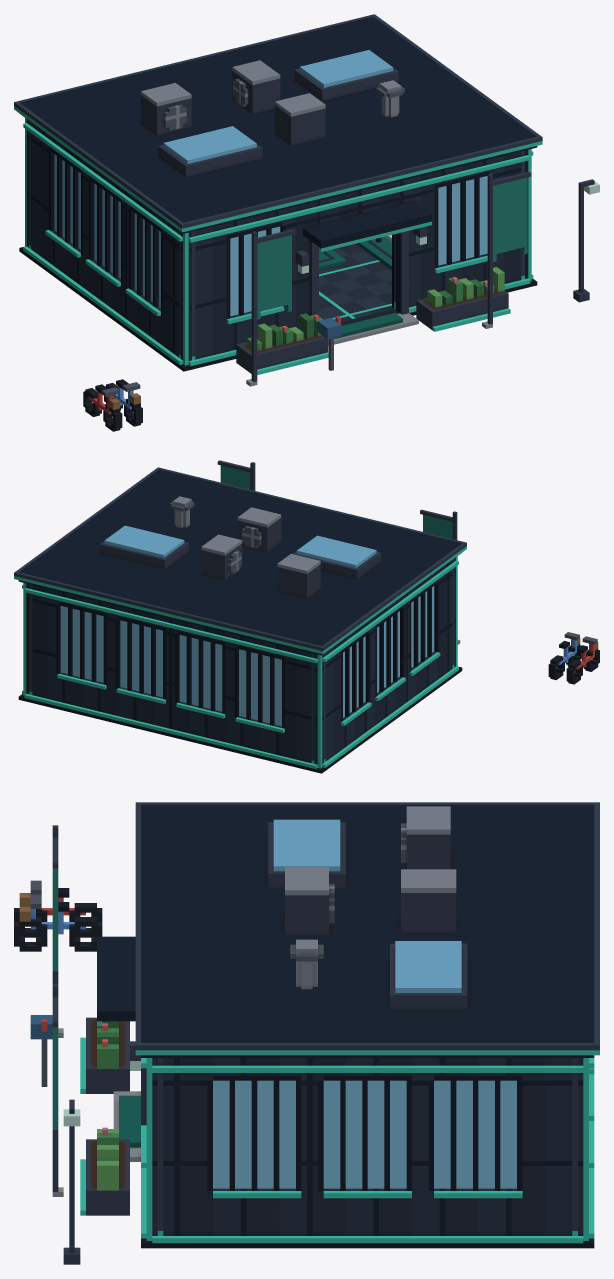
The picture shows the model from 3 angles, top to bottom: view 1: azimuth 30°, elevation 25°; view 2: azimuth 150°, elevation 25°; view 3: azimuth 270°, elevation 25°; orthographic projection. The views are drawn at different scales.
Visible parts, largest first — view 1: CutRoof, Base, CutPZ, CutNX, CutNZ; view 2: CutRoof, CutNZ, Base, CutNX, CutPZ; view 3: CutRoof, CutPX, Base, CutPZ, CutNZ.
Boxes of the visible parts, x1,y1,x2,y2 form: CutRoof: [14, 14, 542, 233]; Base: [19, 171, 599, 431]; CutPZ: [179, 149, 531, 332]; CutNX: [23, 122, 182, 328]; CutNZ: [25, 118, 30, 219]; CutRoof: [14, 467, 466, 655]; CutNZ: [23, 583, 325, 740]; Base: [18, 460, 599, 773]; CutNX: [322, 560, 458, 736]; CutPZ: [452, 556, 457, 643]; CutRoof: [135, 802, 599, 1057]; CutPX: [152, 1058, 583, 1198]; Base: [14, 825, 594, 1264]; CutPZ: [97, 936, 163, 1195]; CutNZ: [572, 1058, 594, 1195].
Bounding box in the file's own units: 14.6 × 5 × 10.6.
